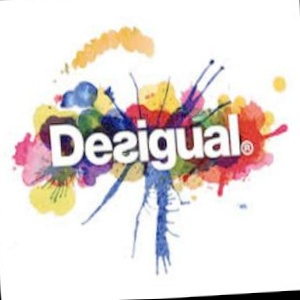desigual: (212, 48, 270, 171)
